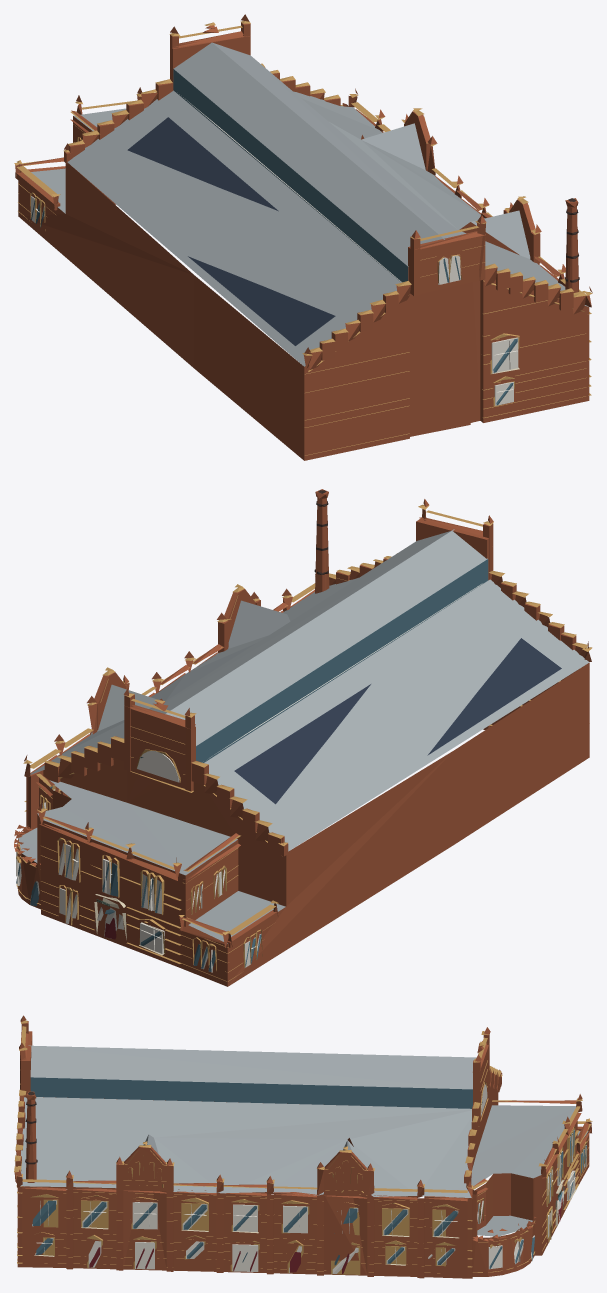
The model's file is zuiderbad.lod1.glb.
3 views of the same model, one above another, from view 1: azimuth 30°, elevation 25°; view 2: azimuth 150°, elevation 25°; view 3: azimuth 270°, elevation 25° (orthographic). The views are drawn at different scales.
Parts seen in each view (by area): view 1: zuiderbad; view 2: zuiderbad; view 3: zuiderbad.
Part boxes in pixels (x1,y1,x2,y2): zuiderbad: (14, 14, 592, 460); zuiderbad: (14, 489, 592, 986); zuiderbad: (14, 1015, 592, 1278).
Size of the model in its own units: 34.1 by 22.28 by 64.73.
